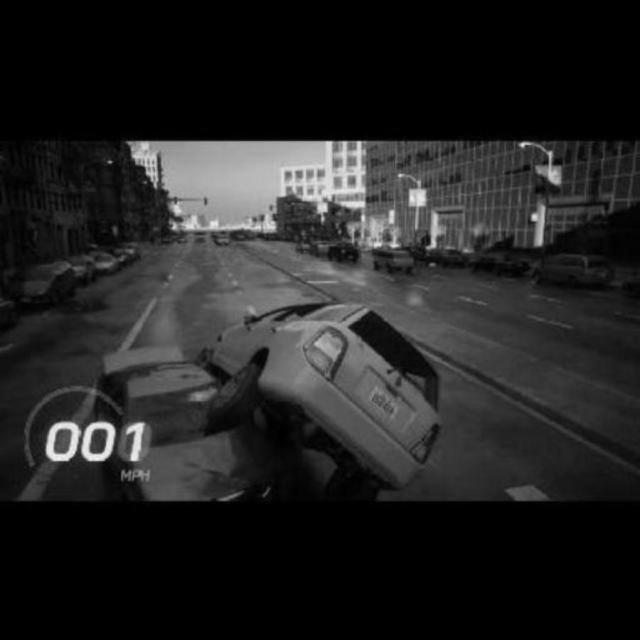accident: (97, 301, 437, 502)
vehicle: (529, 248, 617, 295), (2, 258, 78, 310), (467, 241, 534, 278), (369, 243, 416, 279), (87, 246, 123, 278), (324, 240, 362, 268)
